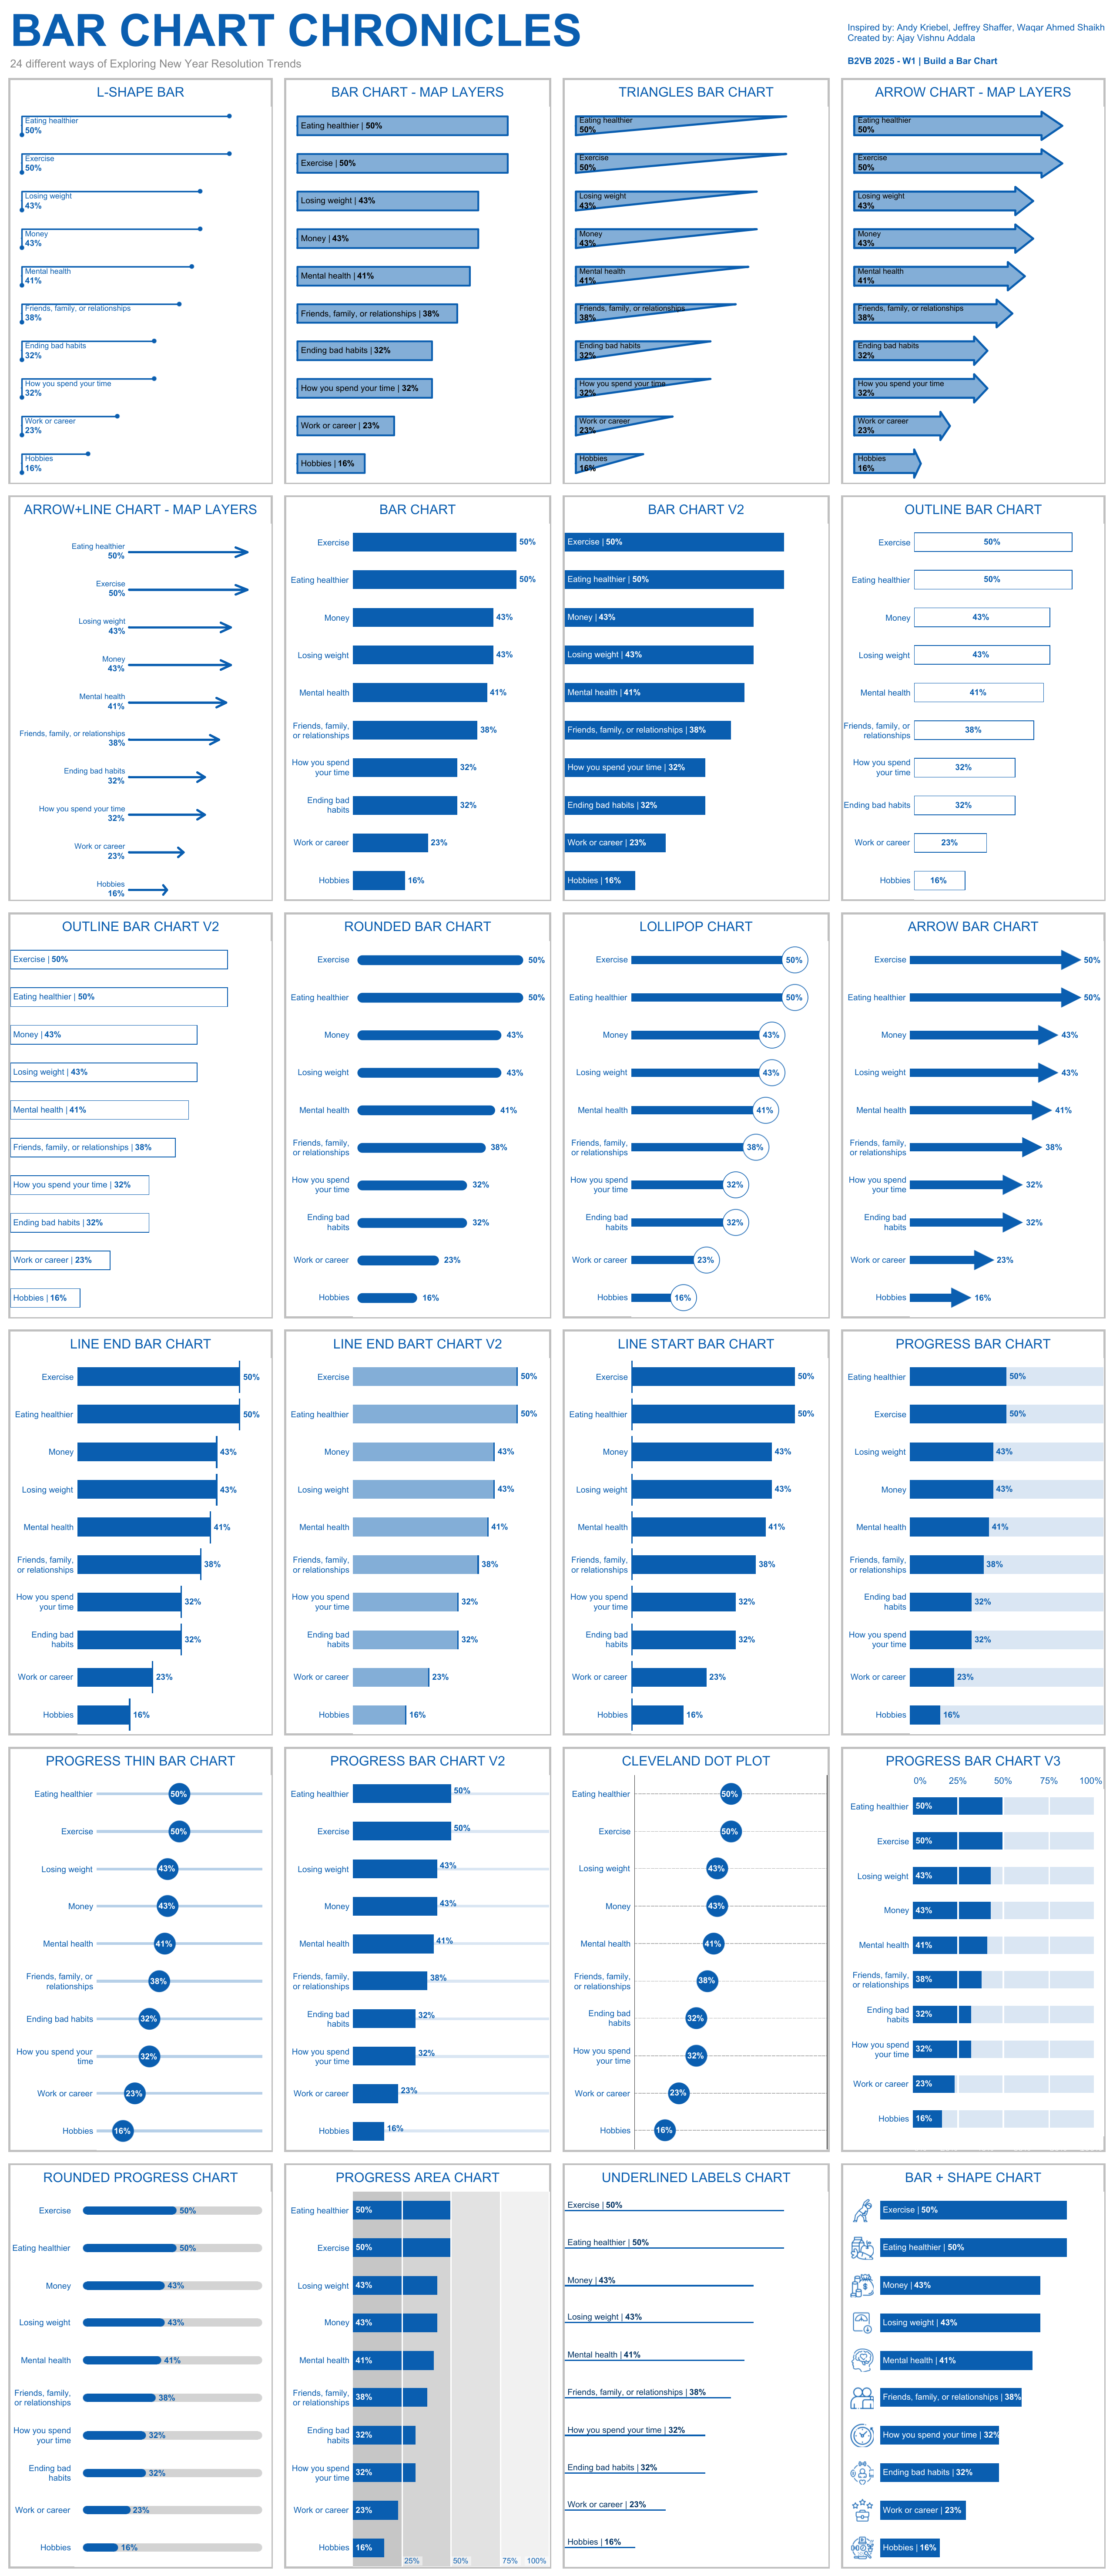

The page's visual inventory and layout, read from the dashboard file:
{"tool":"tableau","page":{"name":"B2VB2025 W1","canvas":[1600,3700],"ordinal":0},"visuals":[{"type":"text","box":[4,4,1207,100]},{"type":"text","box":[1211,28,385,70]},{"type":"worksheet","title":"L-Shape Bar","mark":"Automatic","rows":["Resolution Category"],"box":[4,104,396,599]},{"type":"worksheet","title":"Bar-Map Layers","mark":"Automatic","rows":["Resolution Category"],"box":[400,104,400,599]},{"type":"worksheet","title":"Triangles","mark":"Automatic","rows":["Resolution Category"],"box":[800,104,400,599]},{"type":"worksheet","title":"Arrow Bar Chart - Map Layers","mark":"Automatic","rows":["Resolution Category"],"box":[1200,104,396,599]},{"type":"worksheet","title":"Arrow + Line","mark":"Automatic","rows":["Resolution Category"],"box":[4,703,396,599]},{"type":"worksheet","title":"Bar Chart","mark":"Automatic","rows":["Resolution Category"],"cols":["Percentage"],"box":[400,703,400,599]},{"type":"worksheet","title":"Bar Chart V2","mark":"Automatic","rows":["Resolution Category"],"cols":["Percentage"],"box":[800,703,400,599]},{"type":"worksheet","title":"Outline Bar Chart","mark":"Automatic","rows":["Resolution Category"],"cols":["Percentage"],"box":[1200,703,396,599]},{"type":"worksheet","title":"Outline Bar Chart V2","mark":"Automatic","rows":["Resolution Category"],"cols":["Percentage"],"box":[4,1302,396,599]},{"type":"worksheet","title":"Rounded Bar Chart","mark":"Line","rows":["Resolution Category"],"box":[400,1302,400,599]},{"type":"worksheet","title":"Lollilop","mark":"Automatic","rows":["Resolution Category"],"cols":["Percentage","Percentage"],"box":[800,1302,400,599]},{"type":"worksheet","title":"Arrow Bar Chart","mark":"Automatic","rows":["Resolution Category"],"cols":["Percentage","Percentage"],"box":[1200,1302,396,599]},{"type":"worksheet","title":"Line End Bar Chart","mark":"Automatic","rows":["Resolution Category"],"cols":["Percentage","Percentage"],"box":[4,1901,396,599]},{"type":"worksheet","title":"Line End Bar Chart V2","mark":"Automatic","rows":["Resolution Category"],"cols":["Percentage","Percentage"],"box":[400,1901,400,599]},{"type":"worksheet","title":"Line Start Bar Chart","mark":"Automatic","rows":["Resolution Category"],"cols":["Percentage","Calculation_3734891503175872522"],"box":[800,1901,400,599]},{"type":"worksheet","title":"Progress Bar","mark":"Bar","rows":["Resolution Category"],"cols":["Percentage","Calculation_1586322636870381569"],"box":[1200,1901,396,599]},{"type":"worksheet","title":"Progress Thin bar","mark":"Line","rows":["Resolution Category"],"cols":["Percentage","Calculation_3734891503189061651"],"box":[4,2500,396,598]},{"type":"worksheet","title":"Progress Bar V2","mark":"Bar","rows":["Resolution Category"],"cols":["Percentage","Calculation_1586322636870381569"],"box":[400,2500,400,598]},{"type":"worksheet","title":"Cleveland Dot Plot","mark":"Circle","rows":["Resolution Category","Calculation_3734891503179079692"],"cols":["Percentage"],"box":[800,2500,400,598]},{"type":"worksheet","title":"Progress Bar V3","mark":"Bar","rows":["Resolution Category"],"cols":["Percentage","Calculation_1586322636870381569"],"box":[1200,2500,396,598]},{"type":"worksheet","title":"Rounded Progess Chart","mark":"Automatic","rows":["Resolution Category"],"box":[4,3098,396,598]},{"type":"worksheet","title":"Progress Area","mark":"Bar","rows":["Resolution Category"],"cols":["Percentage"],"box":[400,3098,400,598]},{"type":"worksheet","title":"Underlined Labels","mark":"Automatic","rows":["Resolution Category"],"cols":["Percentage"],"box":[800,3098,400,598]},{"type":"worksheet","title":"Bar+Shape Chart","mark":"Automatic","rows":["Resolution Category"],"cols":["Percentage","Calculation_3734891503185543185"],"box":[1200,3098,396,598]}]}

Visuals, with their boxes in screenshot pixels (x1, y1, x2, y2), scaled from the page's 1600x3700 canvas onto the 1113x2576 screenshot:
text: detection(3, 3, 842, 72)
text: detection(842, 20, 1110, 68)
"L-Shape Bar" worksheet: detection(3, 72, 278, 489)
"Bar-Map Layers" worksheet: detection(278, 72, 556, 489)
"Triangles" worksheet: detection(556, 72, 835, 489)
"Arrow Bar Chart - Map Layers" worksheet: detection(835, 72, 1110, 489)
"Arrow + Line" worksheet: detection(3, 489, 278, 906)
"Bar Chart" worksheet: detection(278, 489, 556, 906)
"Bar Chart V2" worksheet: detection(556, 489, 835, 906)
"Outline Bar Chart" worksheet: detection(835, 489, 1110, 906)
"Outline Bar Chart V2" worksheet: detection(3, 906, 278, 1324)
"Rounded Bar Chart" worksheet (Line marks): detection(278, 906, 556, 1324)
"Lollilop" worksheet: detection(556, 906, 835, 1324)
"Arrow Bar Chart" worksheet: detection(835, 906, 1110, 1324)
"Line End Bar Chart" worksheet: detection(3, 1324, 278, 1741)
"Line End Bar Chart V2" worksheet: detection(278, 1324, 556, 1741)
"Line Start Bar Chart" worksheet: detection(556, 1324, 835, 1741)
"Progress Bar" worksheet (Bar marks): detection(835, 1324, 1110, 1741)
"Progress Thin bar" worksheet (Line marks): detection(3, 1741, 278, 2157)
"Progress Bar V2" worksheet (Bar marks): detection(278, 1741, 556, 2157)
"Cleveland Dot Plot" worksheet (Circle marks): detection(556, 1741, 835, 2157)
"Progress Bar V3" worksheet (Bar marks): detection(835, 1741, 1110, 2157)
"Rounded Progess Chart" worksheet: detection(3, 2157, 278, 2573)
"Progress Area" worksheet (Bar marks): detection(278, 2157, 556, 2573)
"Underlined Labels" worksheet: detection(556, 2157, 835, 2573)
"Bar+Shape Chart" worksheet: detection(835, 2157, 1110, 2573)
